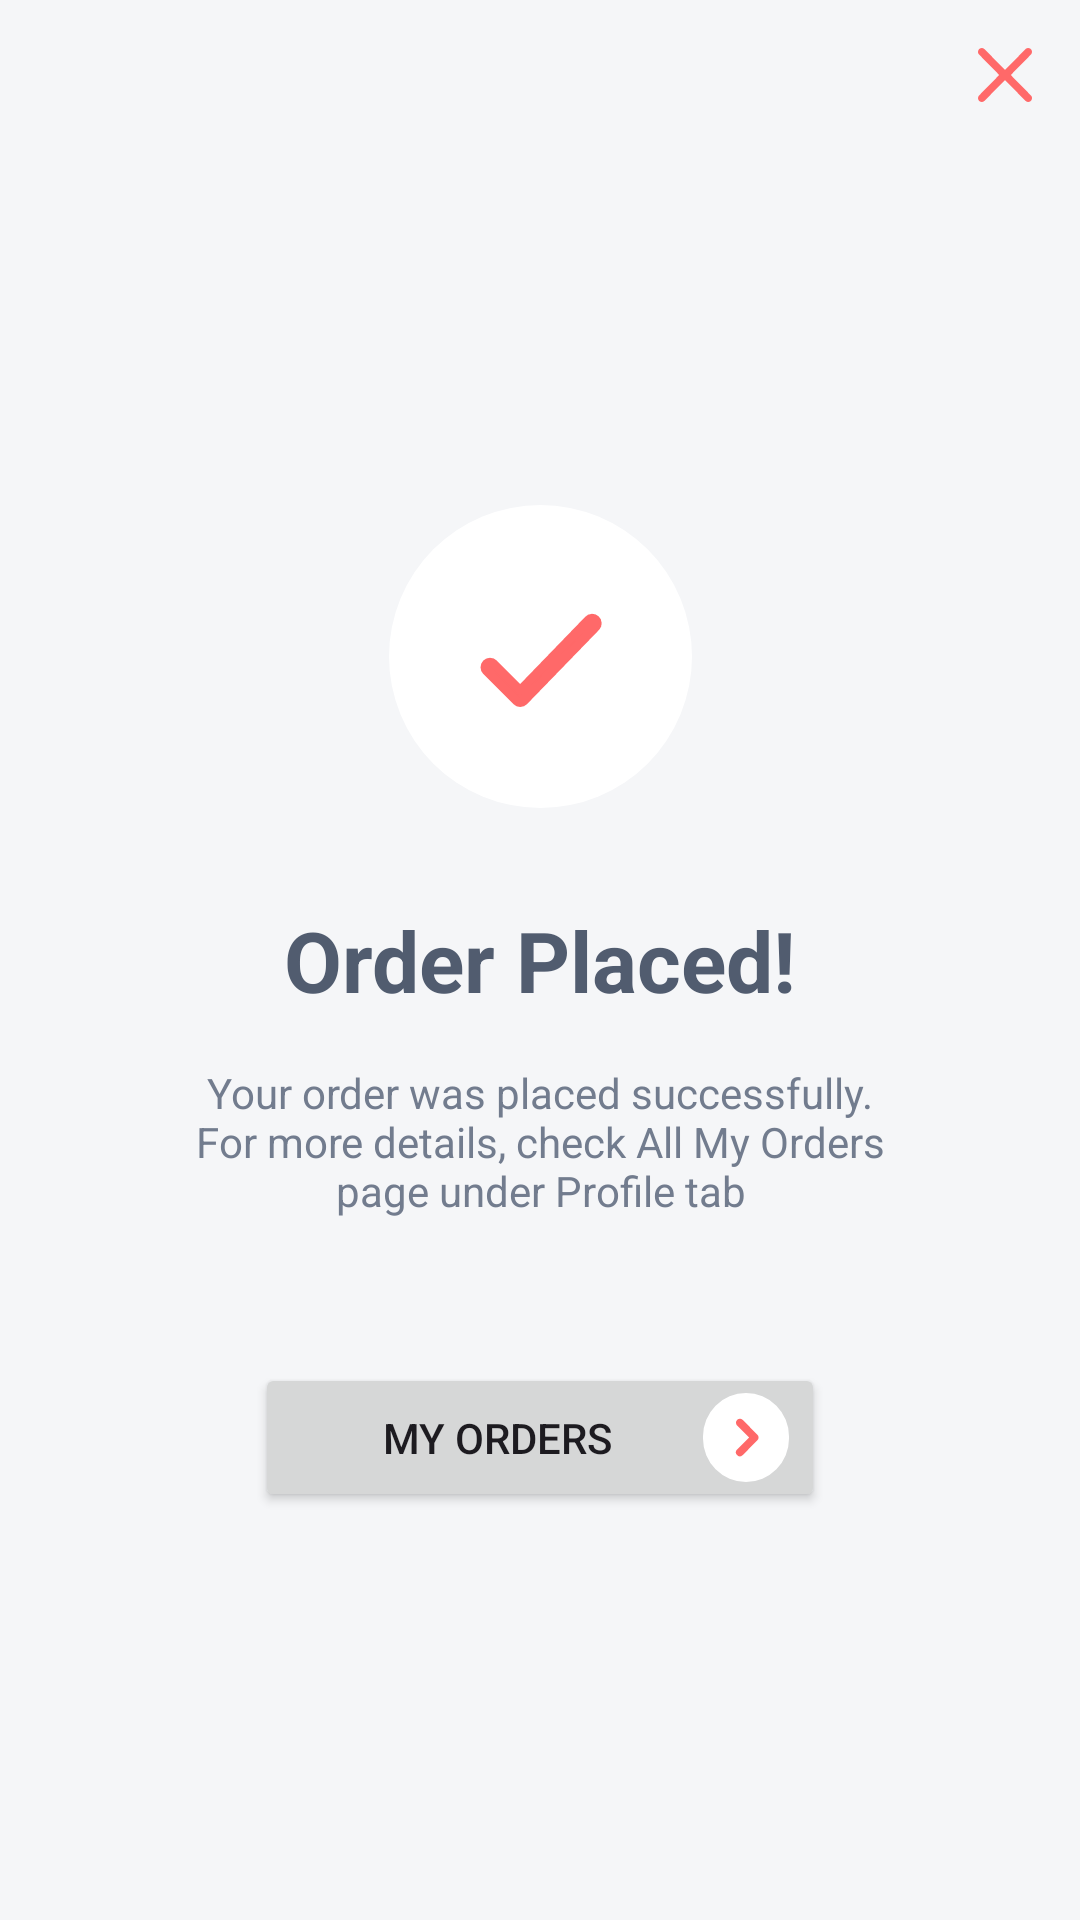

Icons on this 1080 x 1920 Android screen, each with its box as {"left": x1, "top": y1, "right": x2, "bottom": y2}:
close: {"left": 978, "top": 48, "right": 1032, "bottom": 102}
done: {"left": 389, "top": 505, "right": 692, "bottom": 808}
